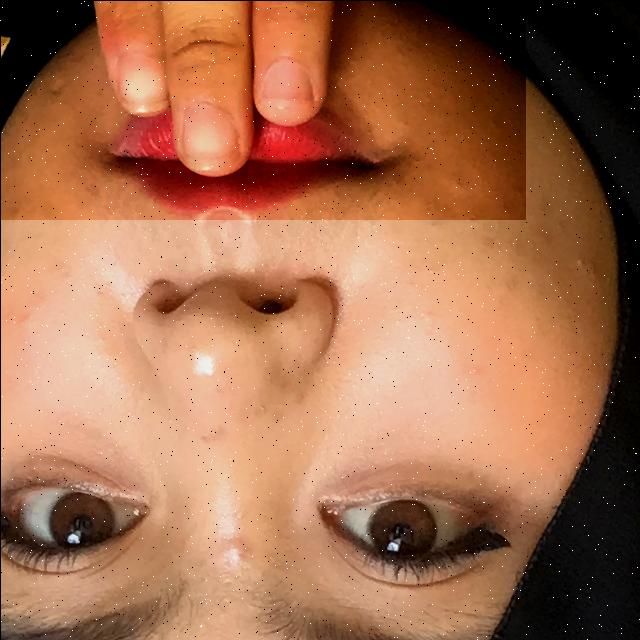ganteng: (0, 0, 525, 219)
